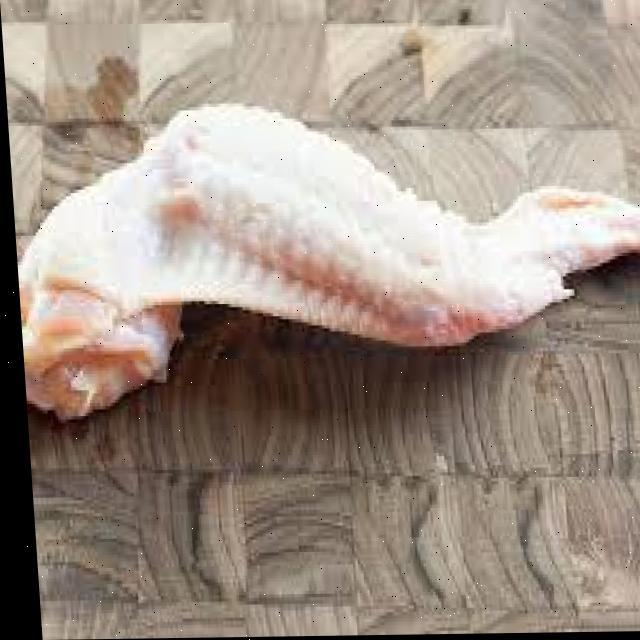wing: (5, 91, 640, 422)
